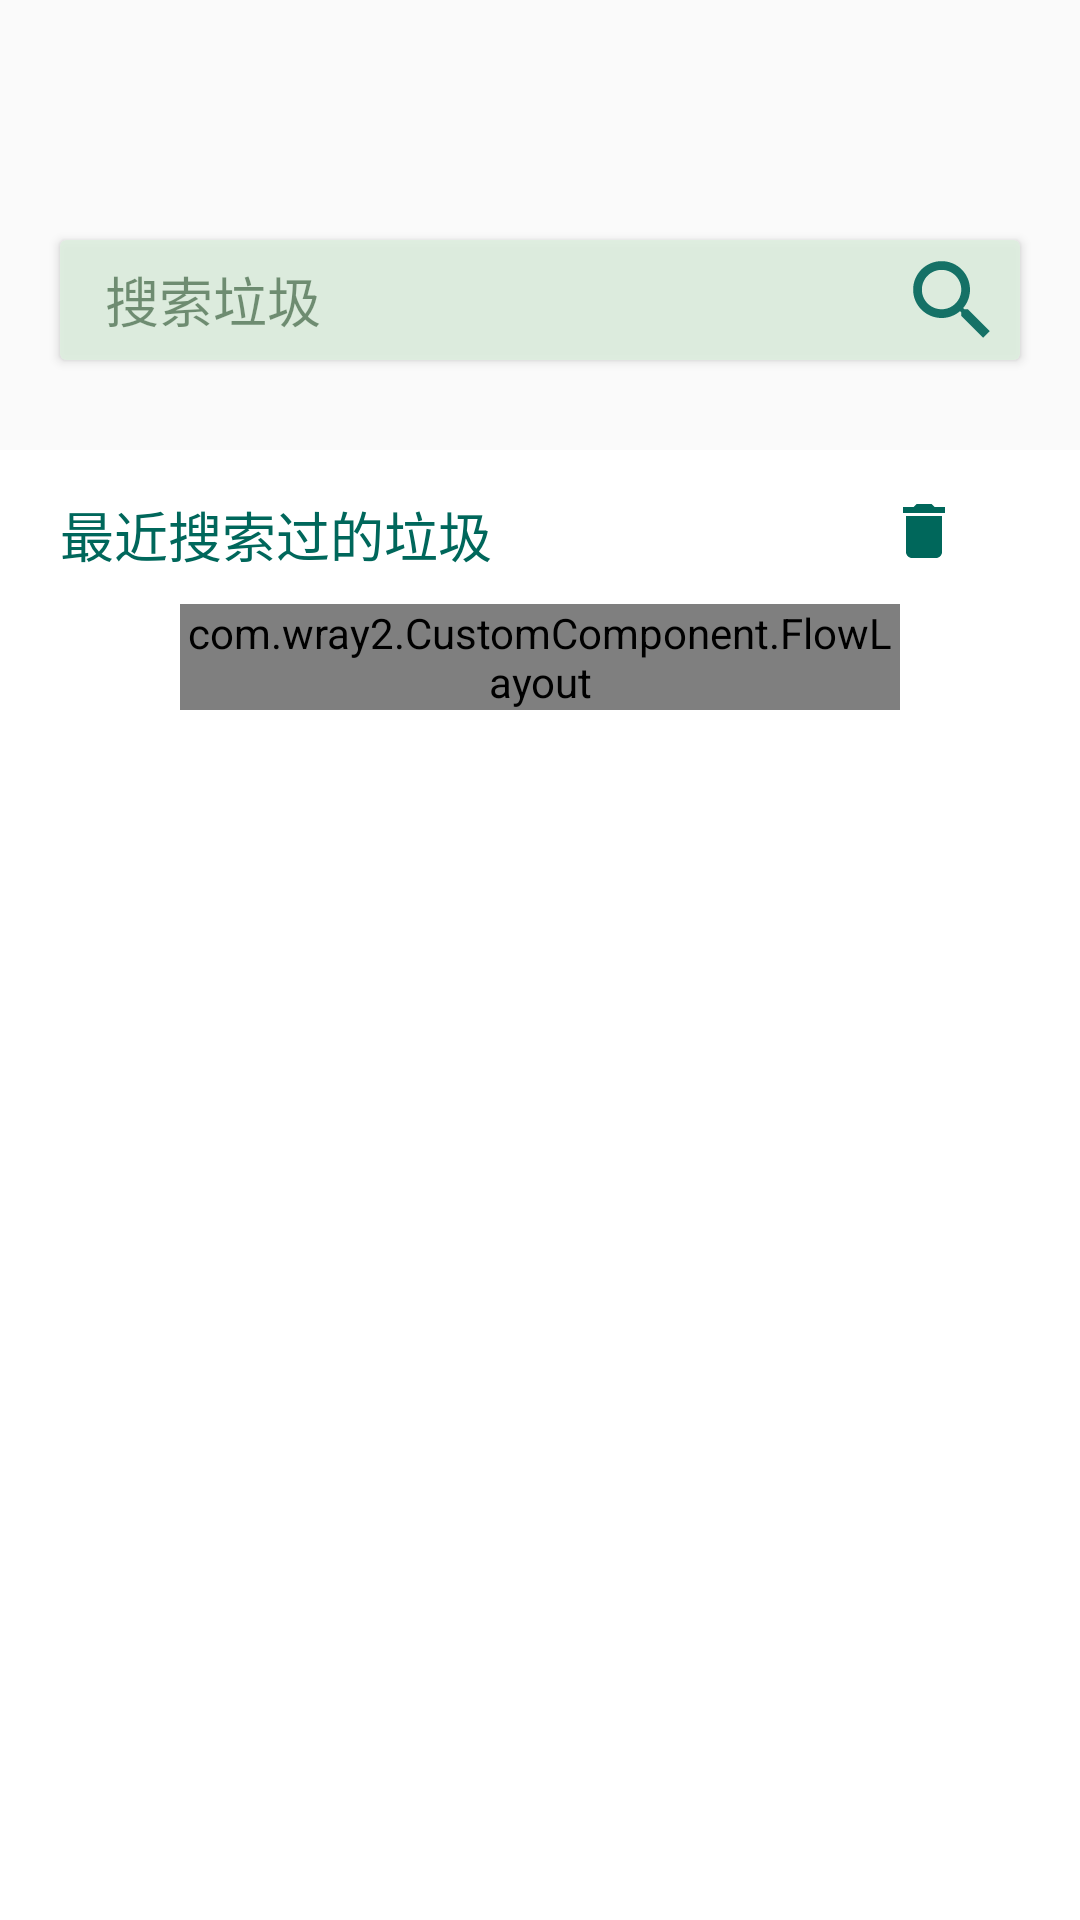

Icon bounding boxes for this 1080x1920 phone screenshot, format (x1, y1, x2, y2):
delete: (903, 504, 945, 558)
search: (913, 261, 990, 338)
